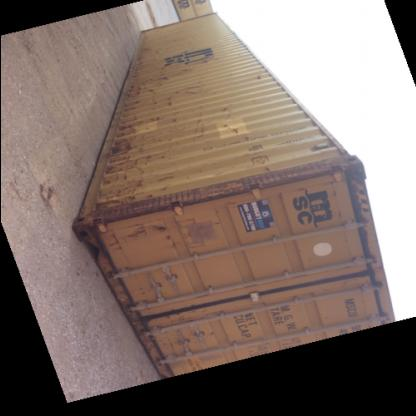Damage: (99, 136, 155, 210), (122, 84, 162, 138), (188, 104, 210, 140), (216, 124, 253, 142), (104, 224, 125, 253), (154, 173, 180, 194), (154, 222, 174, 249), (129, 221, 147, 245), (140, 41, 162, 59), (219, 104, 239, 122), (156, 72, 177, 84), (134, 60, 146, 78), (254, 71, 269, 85), (199, 54, 215, 66), (186, 86, 202, 96), (166, 98, 178, 110), (170, 117, 180, 126), (170, 90, 185, 96)
